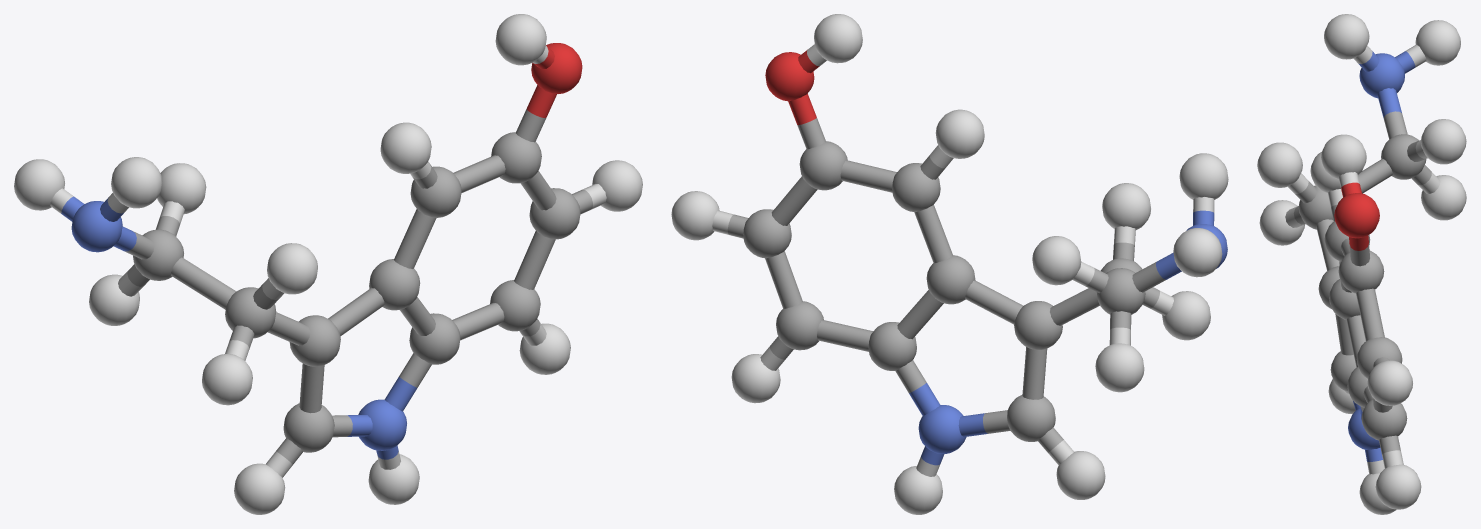
The model's file is serotonin-bas.glb.
3 views of the same model, side by side, from view 1: azimuth 30°, elevation 25°; view 2: azimuth 150°, elevation 25°; view 3: azimuth 270°, elevation 25° (orthographic). The views are drawn at different scales.
Visible parts, largest first — view 1: serotonin-bas; view 2: serotonin-bas; view 3: serotonin-bas.
Part boxes in pixels (x1,y1,x2,y2): serotonin-bas: [14, 14, 642, 514]; serotonin-bas: [671, 14, 1228, 514]; serotonin-bas: [1257, 14, 1466, 514].
Bounding box in the file's own units: 9.32 × 7.13 × 3.21.
